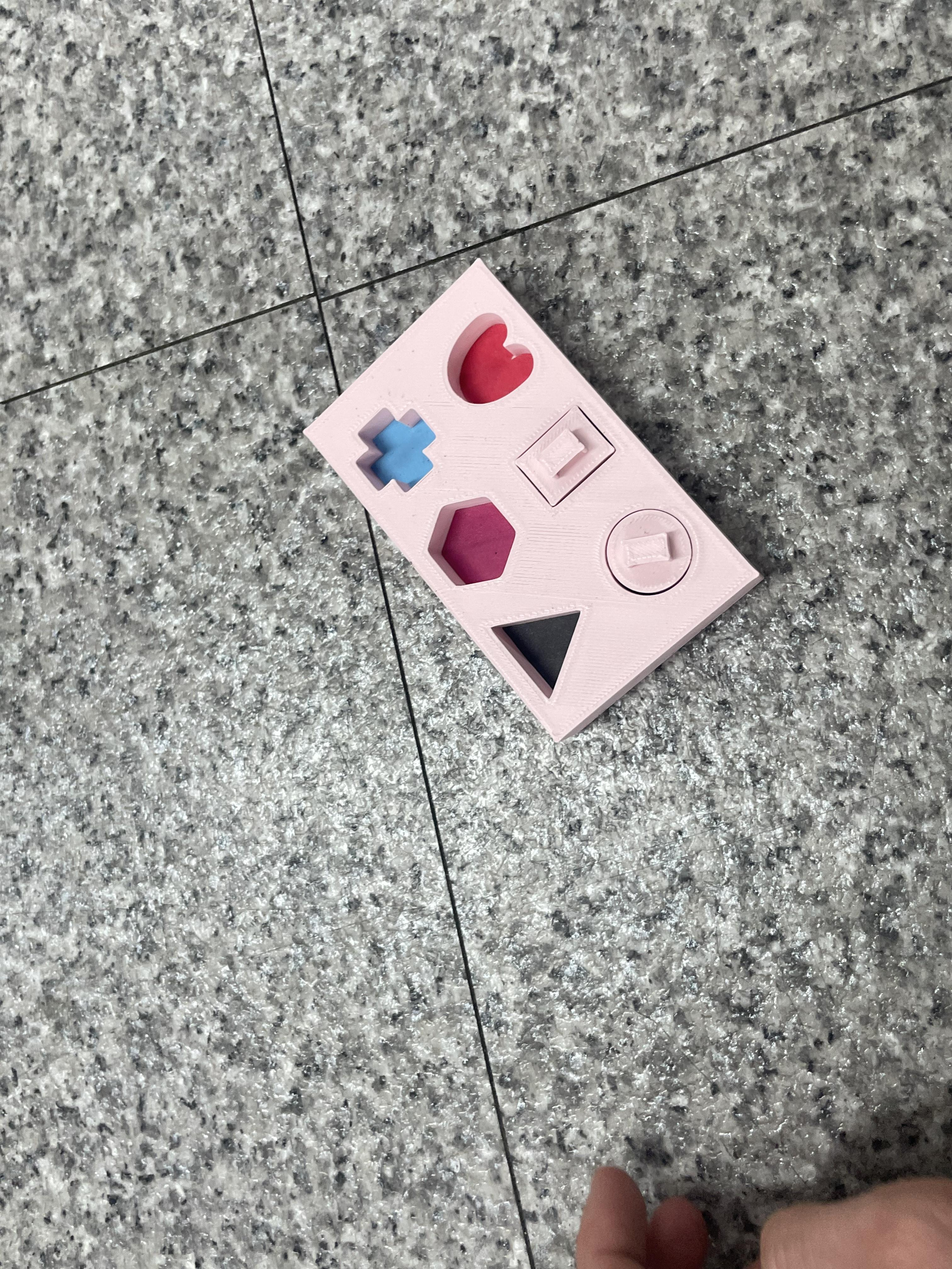unsolved: (299, 237, 783, 762)
